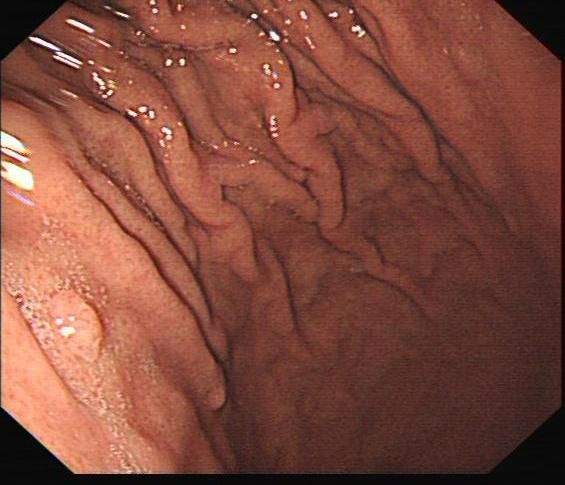Polyp: (47, 291, 104, 361)
